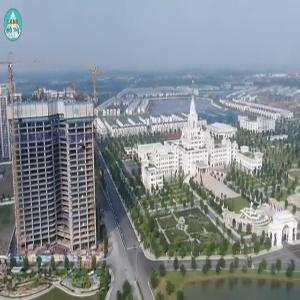drone: (65, 135, 102, 172)
